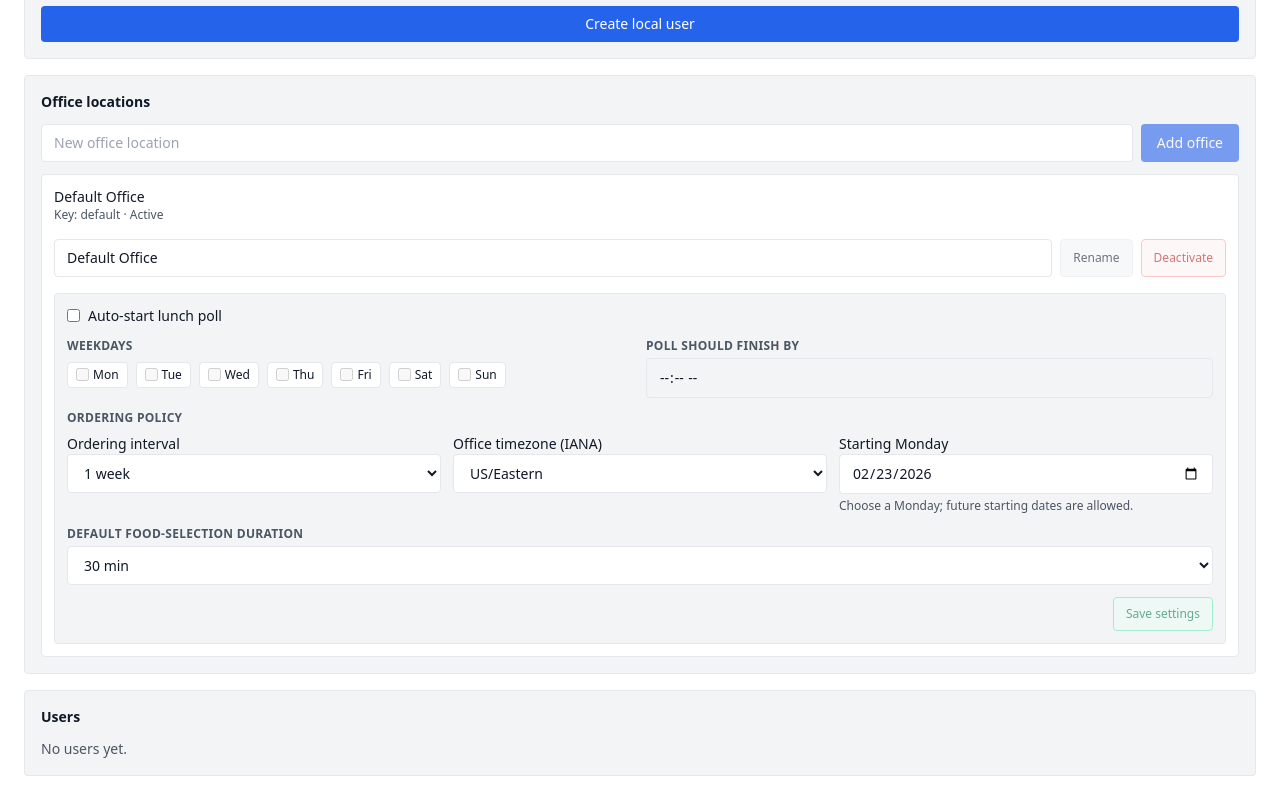
Administration timezone dropdown › offers native timezone choices and preserves a saved alias
The width and height of the screenshot is (1280, 800).
(page scrolled)
Select "Europe/Berlin" in the dropdown named "Office timezone for default" at [640, 473], box [453, 454, 827, 492]
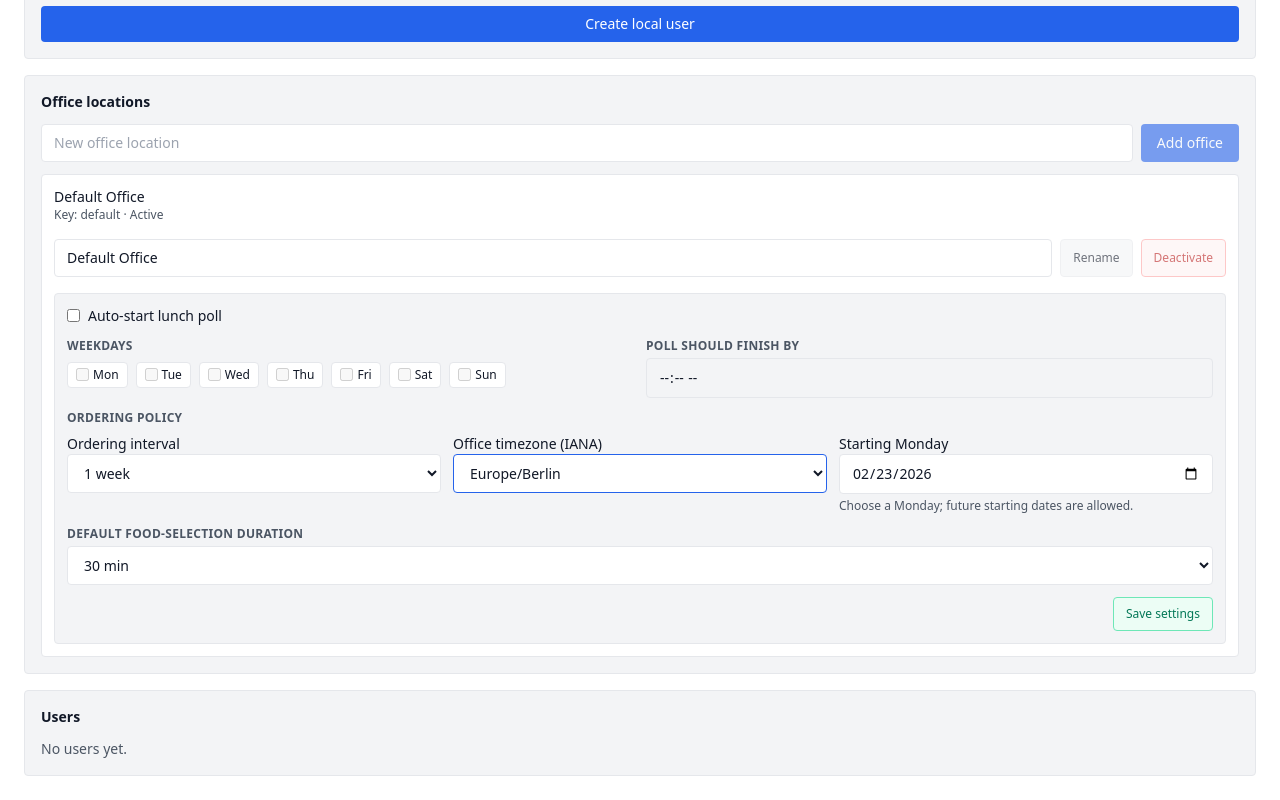
Click the button with aria-label "Save office settings for default" at [1163, 614], box [1113, 596, 1213, 630]
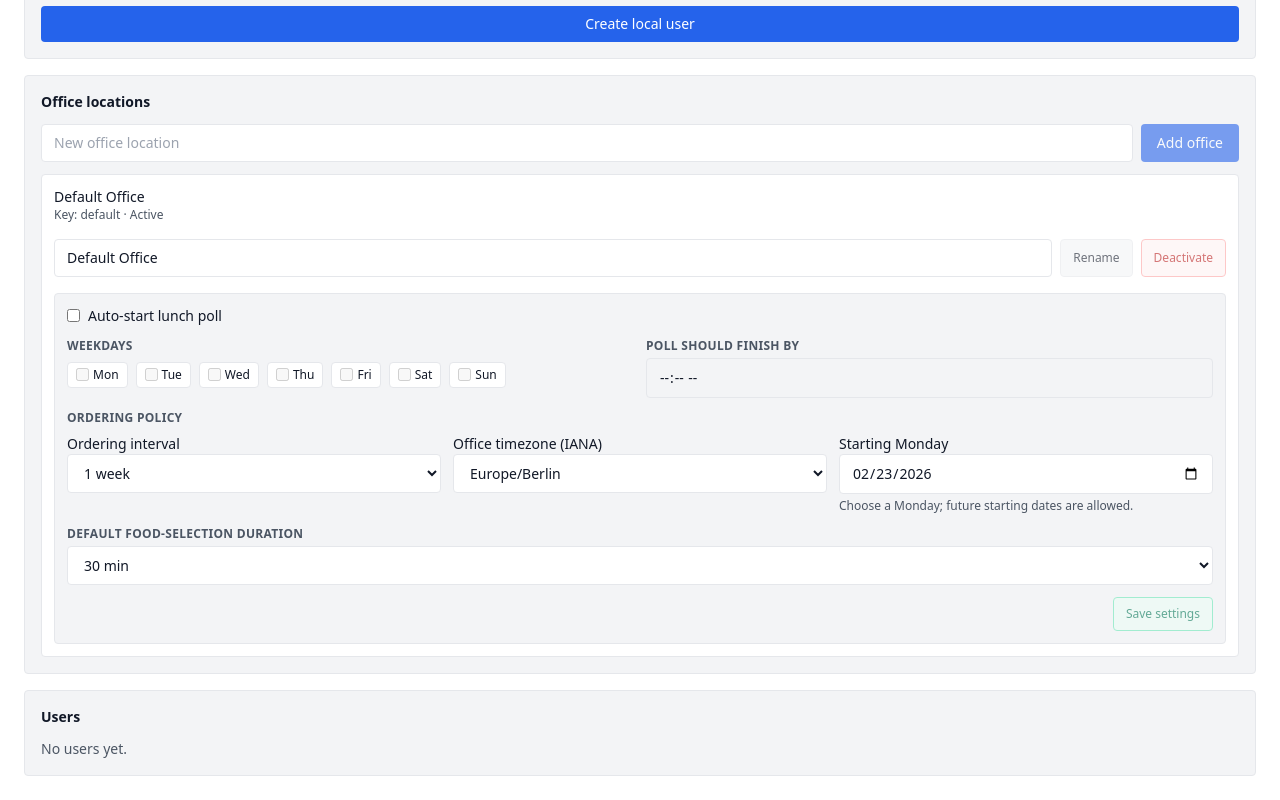
Check: the button with aria-label "Save office settings for default" is disabled, box [1113, 596, 1213, 630]
